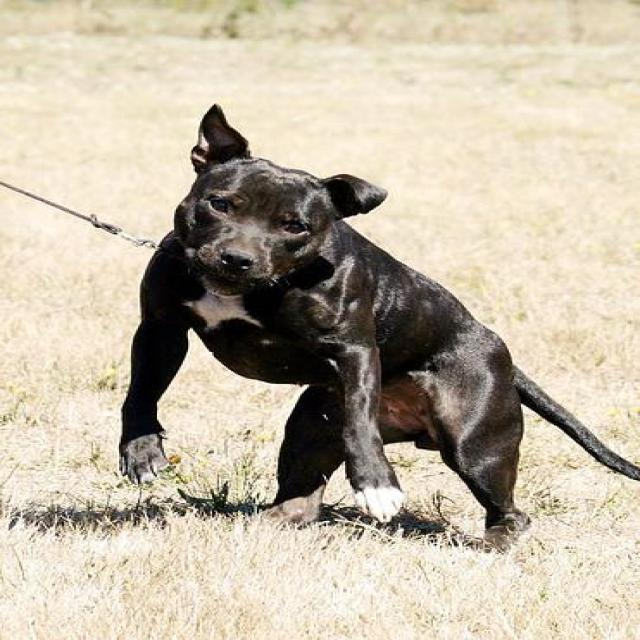staffordshire_bullterrier: (116, 105, 636, 553)
